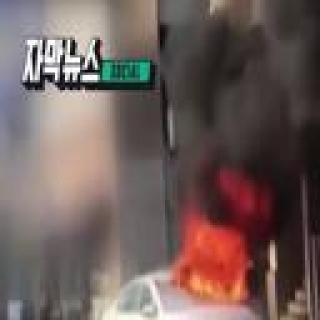fire: (172, 216, 260, 305)
